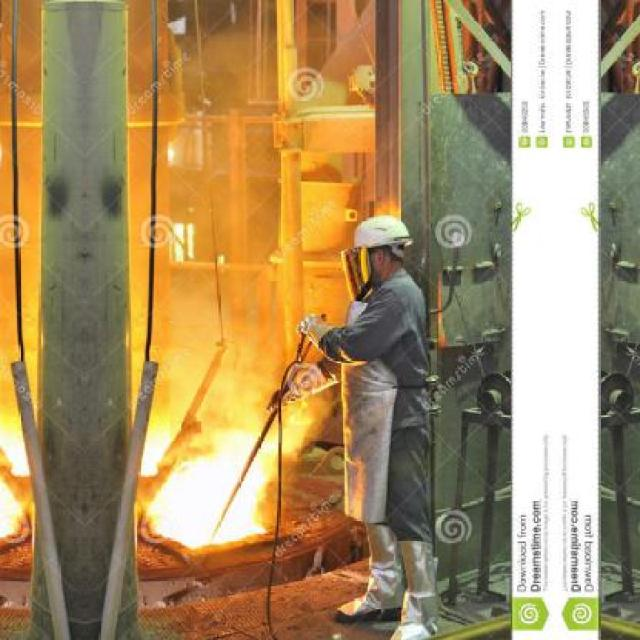helmet: (354, 210, 412, 279)
